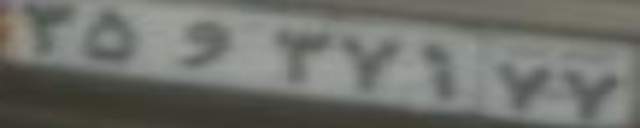1: (420, 40, 461, 99)
3: (274, 29, 331, 83), (23, 3, 72, 55)
5: (82, 10, 136, 61)
7: (340, 33, 405, 95), (559, 69, 620, 119), (495, 60, 550, 114)
vav: (176, 21, 229, 68)
